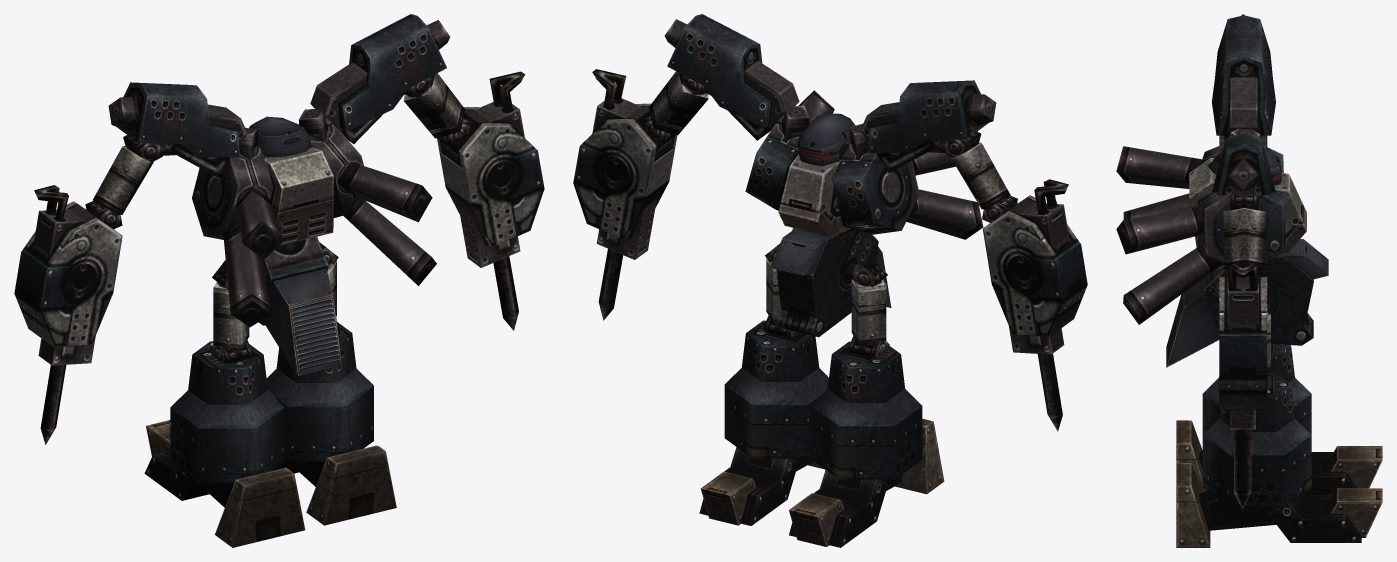
The model's file is PhantomBoss.glb.
3 views of the same model, side by side, from view 1: azimuth 30°, elevation 25°; view 2: azimuth 150°, elevation 25°; view 3: azimuth 270°, elevation 25° (orthographic). The views are drawn at different scales.
Visible parts, largest first — view 1: Spine, L Forearm, R Forearm, L Calf, R Clavicle, R Calf, L Clavicle, Pelvis, L Foot, R Foot, L UpperArm, R UpperArm (+1 smaller); view 2: Spine, L Forearm, R Forearm, L Calf, R Calf, R Clavicle, Pelvis, L Clavicle, L Foot, R Foot, L UpperArm, R UpperArm (+2 smaller); view 3: Spine, R Calf, R Foot, R Forearm, Pelvis, L Clavicle, L Foot, R Clavicle, R UpperArm, L Calf.
Part boxes in pixels (x1,y1,x2,y2): Spine: (192,116,436,327); L Forearm: (14,185,122,444); R Forearm: (437,71,544,330); L Calf: (170,341,284,483); R Clavicle: (299,14,450,143); R Calf: (266,322,373,461); L Clavicle: (108,82,257,177); Pelvis: (212,236,342,376); L Foot: (144,420,305,547); R Foot: (275,445,396,525); L UpperArm: (85,135,162,228); R UpperArm: (403,73,472,145); Spine: (745,90,983,239); L Forearm: (982,179,1087,431); R Forearm: (573,69,677,320); L Calf: (811,341,922,479); R Calf: (724,320,828,458); R Clavicle: (664,14,809,140); Pelvis: (765,227,891,337); L Clavicle: (849,80,996,172); L Foot: (789,418,944,547); R Foot: (699,447,824,525); L UpperArm: (943,131,1017,222); R UpperArm: (642,71,708,142); Spine: (1116,144,1306,324); R Calf: (1202,372,1311,507); R Foot: (1176,463,1382,547); R Forearm: (1219,263,1267,509); Pelvis: (1166,239,1328,367); L Clavicle: (1212,14,1275,137); L Foot: (1176,420,1382,494); R Clavicle: (1212,132,1275,210); R UpperArm: (1223,195,1265,276); L Calf: (1202,343,1311,434).
Size of the model in its own units: 10.1 by 8.64 by 4.85.
Materials: 2 (2 with a texture image).
